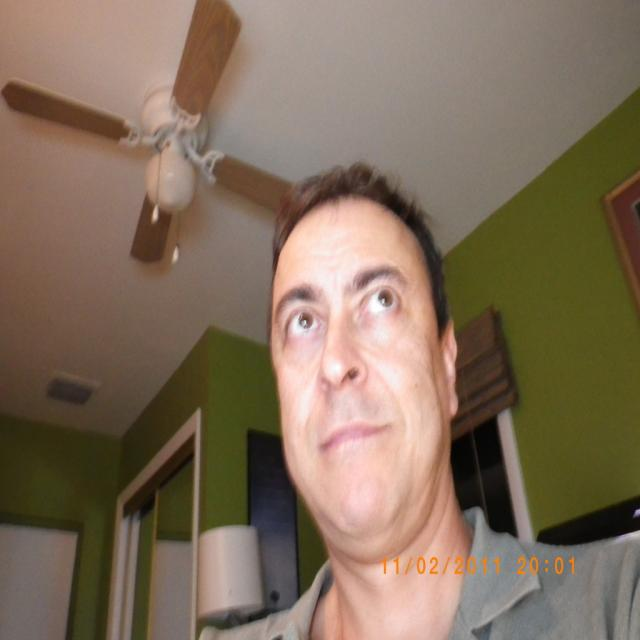Bulb: (0, 0, 297, 265)
